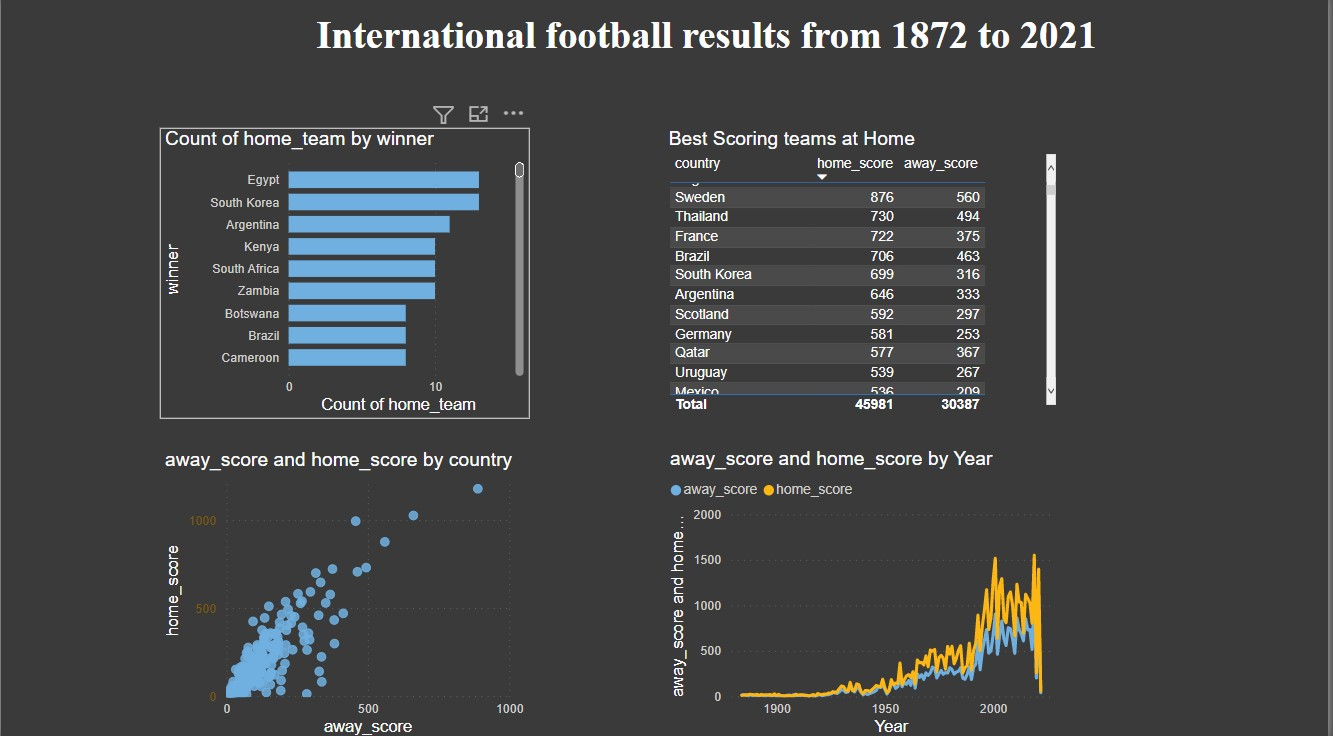

Layout of this report page (visuals, bound fields, positions):
{"tool":"powerbi","page":{"name":"Page 1","canvas":[1280,720],"ordinal":0},"visuals":[{"type":"clusteredBarChart","fields":{"Y":["CountNonNull(shootouts.home_team)"],"Category":["shootouts.winner"]},"box":[153.1,129.5,356.6,280.9],"z":0},{"type":"scatterChart","fields":{"X":["Sum(results.away_score)"],"Y":["Sum(results.home_score)"],"Category":["results.country"]},"box":[153.1,439,356.6,280.9],"z":1000},{"type":"tableEx","title":"Best Scoring teams at Home","fields":{"Values":["results.country","Sum(results.home_score)","Sum(results.away_score)"]},"box":[639.2,129.5,383.5,280.9],"z":4000},{"type":"lineChart","fields":{"Y":["Sum(results.away_score)","Sum(results.home_score)"],"Category":["results.date.Variation.Date Hierarchy.Year"]},"box":[640.8,437.3,381.8,282.6],"z":5000},{"type":"textbox","box":[82.4,13.5,1197.6,116.1],"z":5001}]}

Visuals, with their boxes in screenshot pixels (x1, y1, x2, y2), scaled from the page's 1280x720 canvas onto the 1333x736 screenshot:
clusteredBarChart - CountNonNull(shootouts.home_team) x shootouts.winner: (x1=159, y1=132, x2=531, y2=420)
scatterChart - Sum(results.away_score) x Sum(results.home_score): (x1=159, y1=449, x2=531, y2=735)
"Best Scoring teams at Home" tableEx: (x1=666, y1=132, x2=1065, y2=420)
lineChart - Sum(results.away_score) x Sum(results.home_score): (x1=667, y1=447, x2=1065, y2=735)
textbox: (x1=86, y1=14, x2=1332, y2=132)
